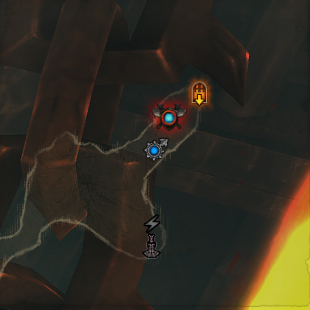Exit: (188, 79, 211, 108)
